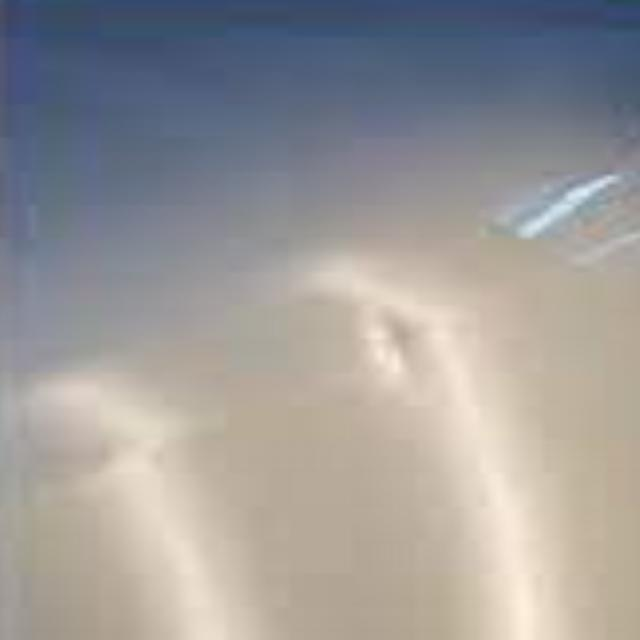dents: (304, 286, 545, 443)
